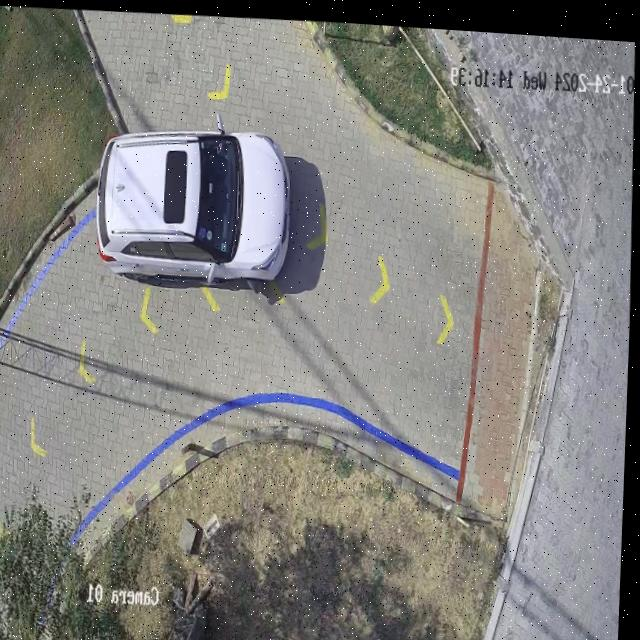car: (97, 126, 292, 289)
